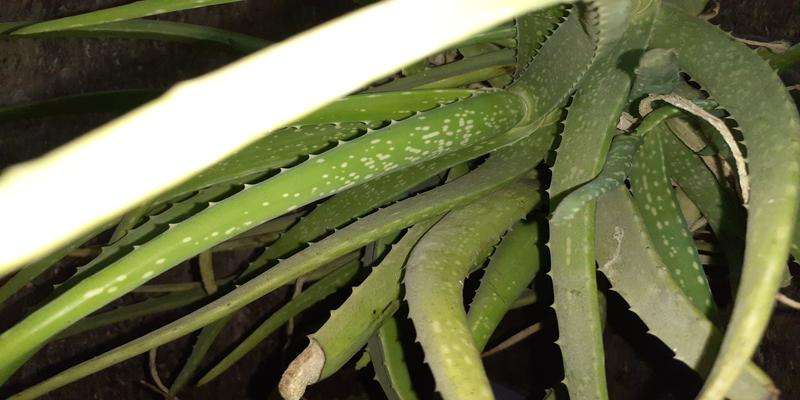Aloevera: (188, 11, 784, 362)
